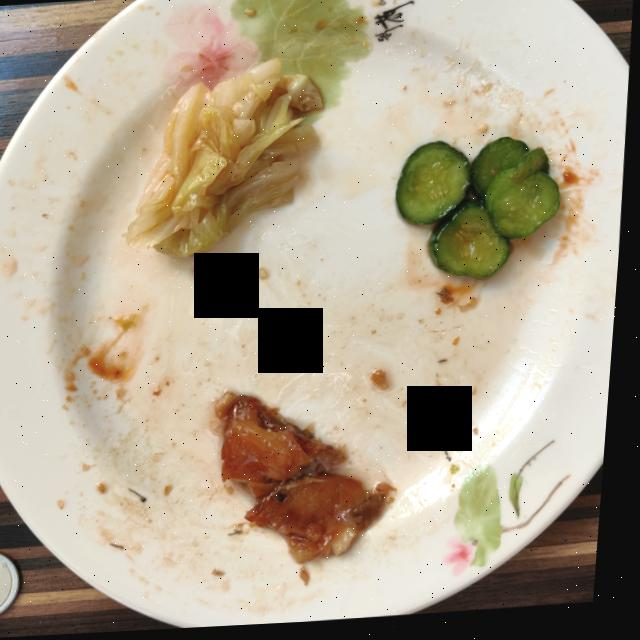Kabayaki sea bream fillet: (222, 395, 399, 567)
cabbage: (128, 61, 324, 258)
coin: (0, 552, 28, 618)
cucumber: (399, 142, 563, 284)
